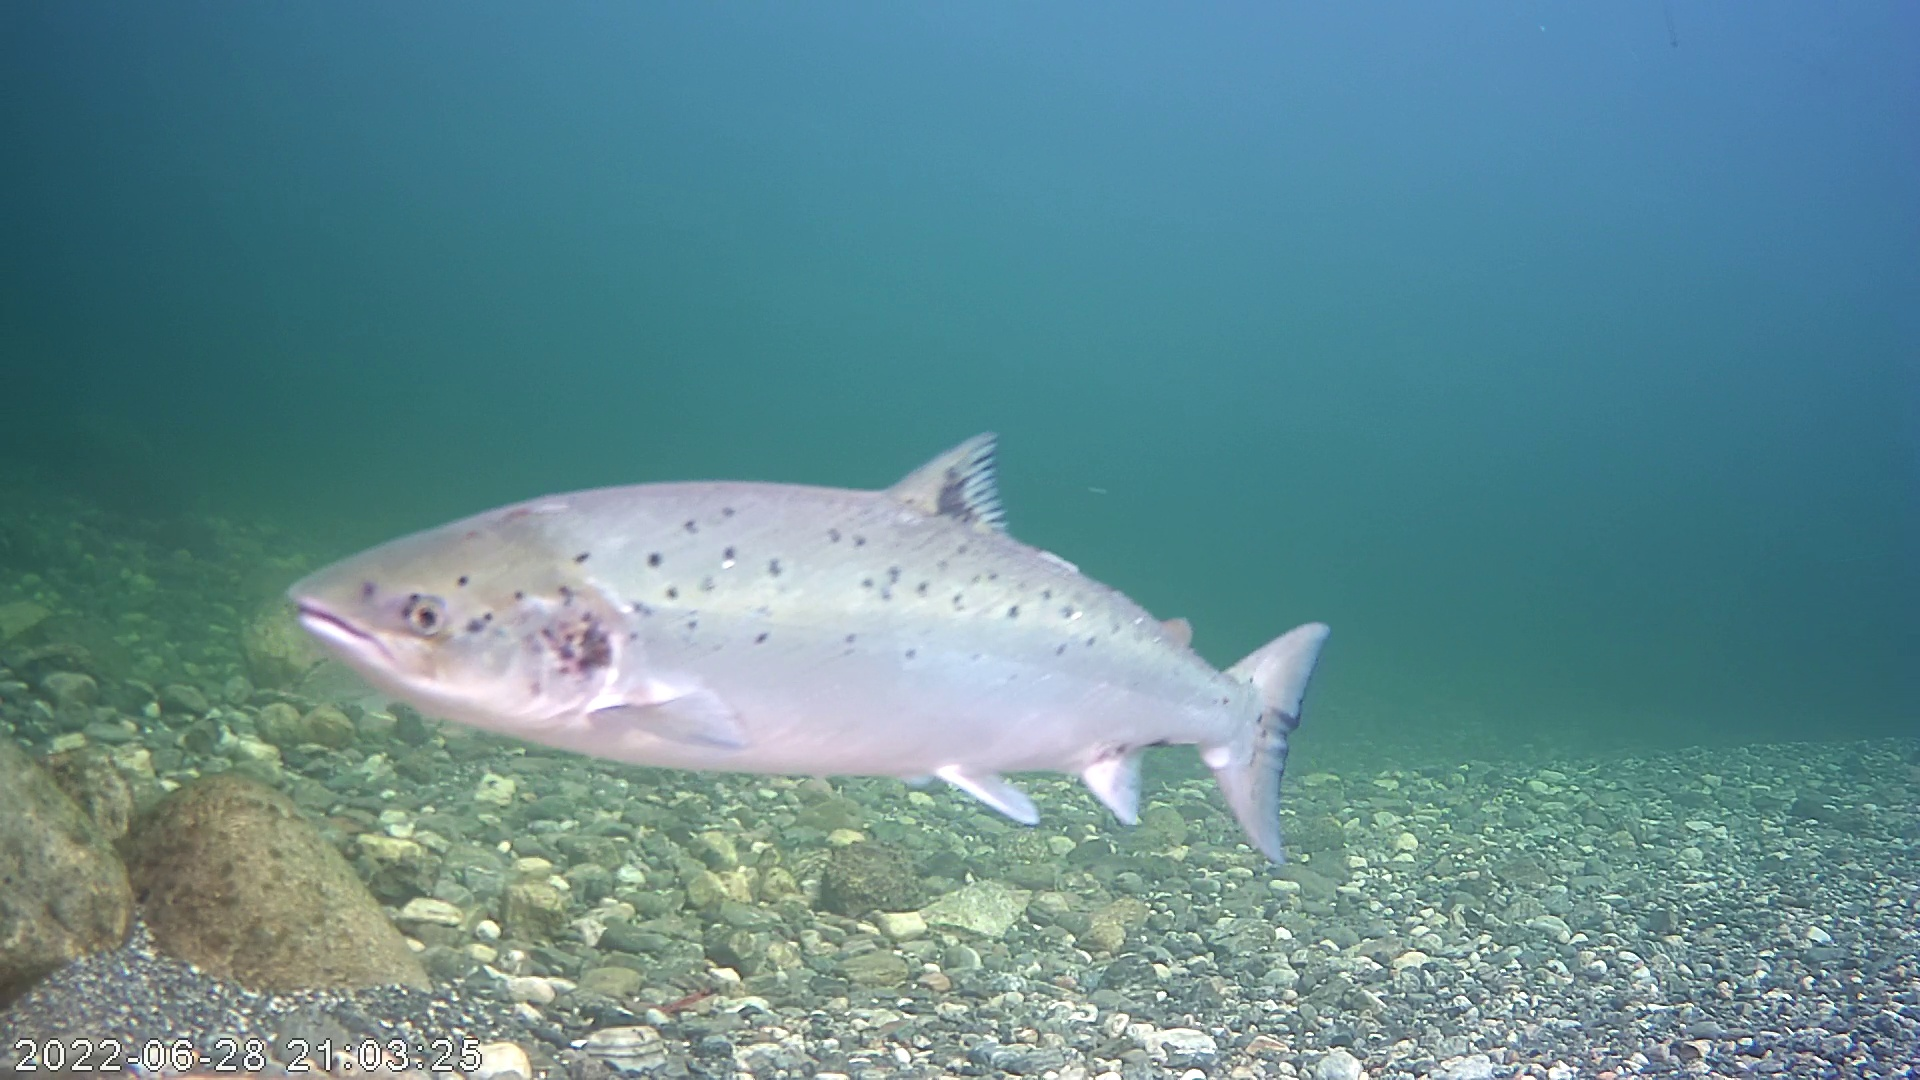salmon: (251, 371, 1342, 895)
